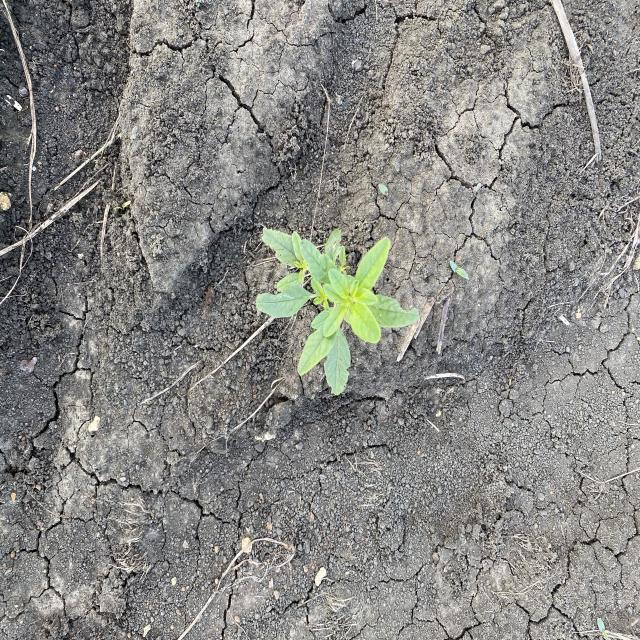Waterhemp: (253, 225, 422, 398)
